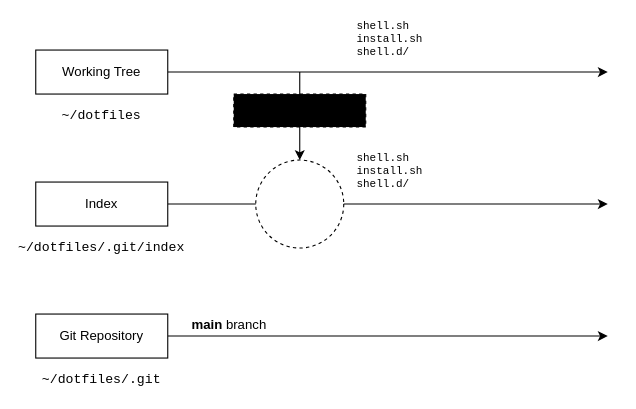
The diagram is 636 pixels wide and 409 high, and some of its shapes have lost their labels. Each missing label, with the centre of its shape:
"git add" goes at point (299, 110).
"Staging" goes at point (299, 203).
